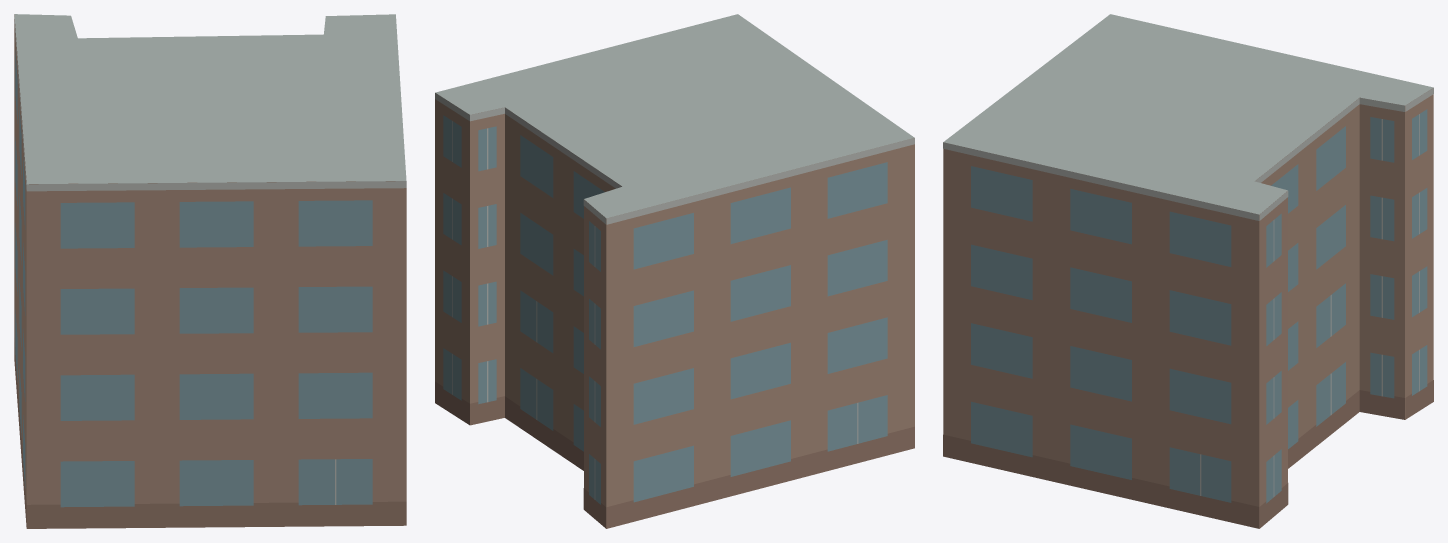
The model's file is survey-upis-32706587.glb.
The picture shows the model from 3 angles, left to right: view 1: azimuth 30°, elevation 25°; view 2: azimuth 150°, elevation 25°; view 3: azimuth 270°, elevation 25°; orthographic projection. The views are drawn at different scales.
Visible parts, largest first — view 1: survey-upis-32706587.tmp; view 2: survey-upis-32706587.tmp; view 3: survey-upis-32706587.tmp.
Boxes of the visible parts, box(x1,y1,x2,y2) form: survey-upis-32706587.tmp: box(14, 14, 406, 528); survey-upis-32706587.tmp: box(435, 14, 914, 528); survey-upis-32706587.tmp: box(943, 14, 1433, 528).
Bounding box in the file's own units: 16.02 × 11.7 × 16.56.
